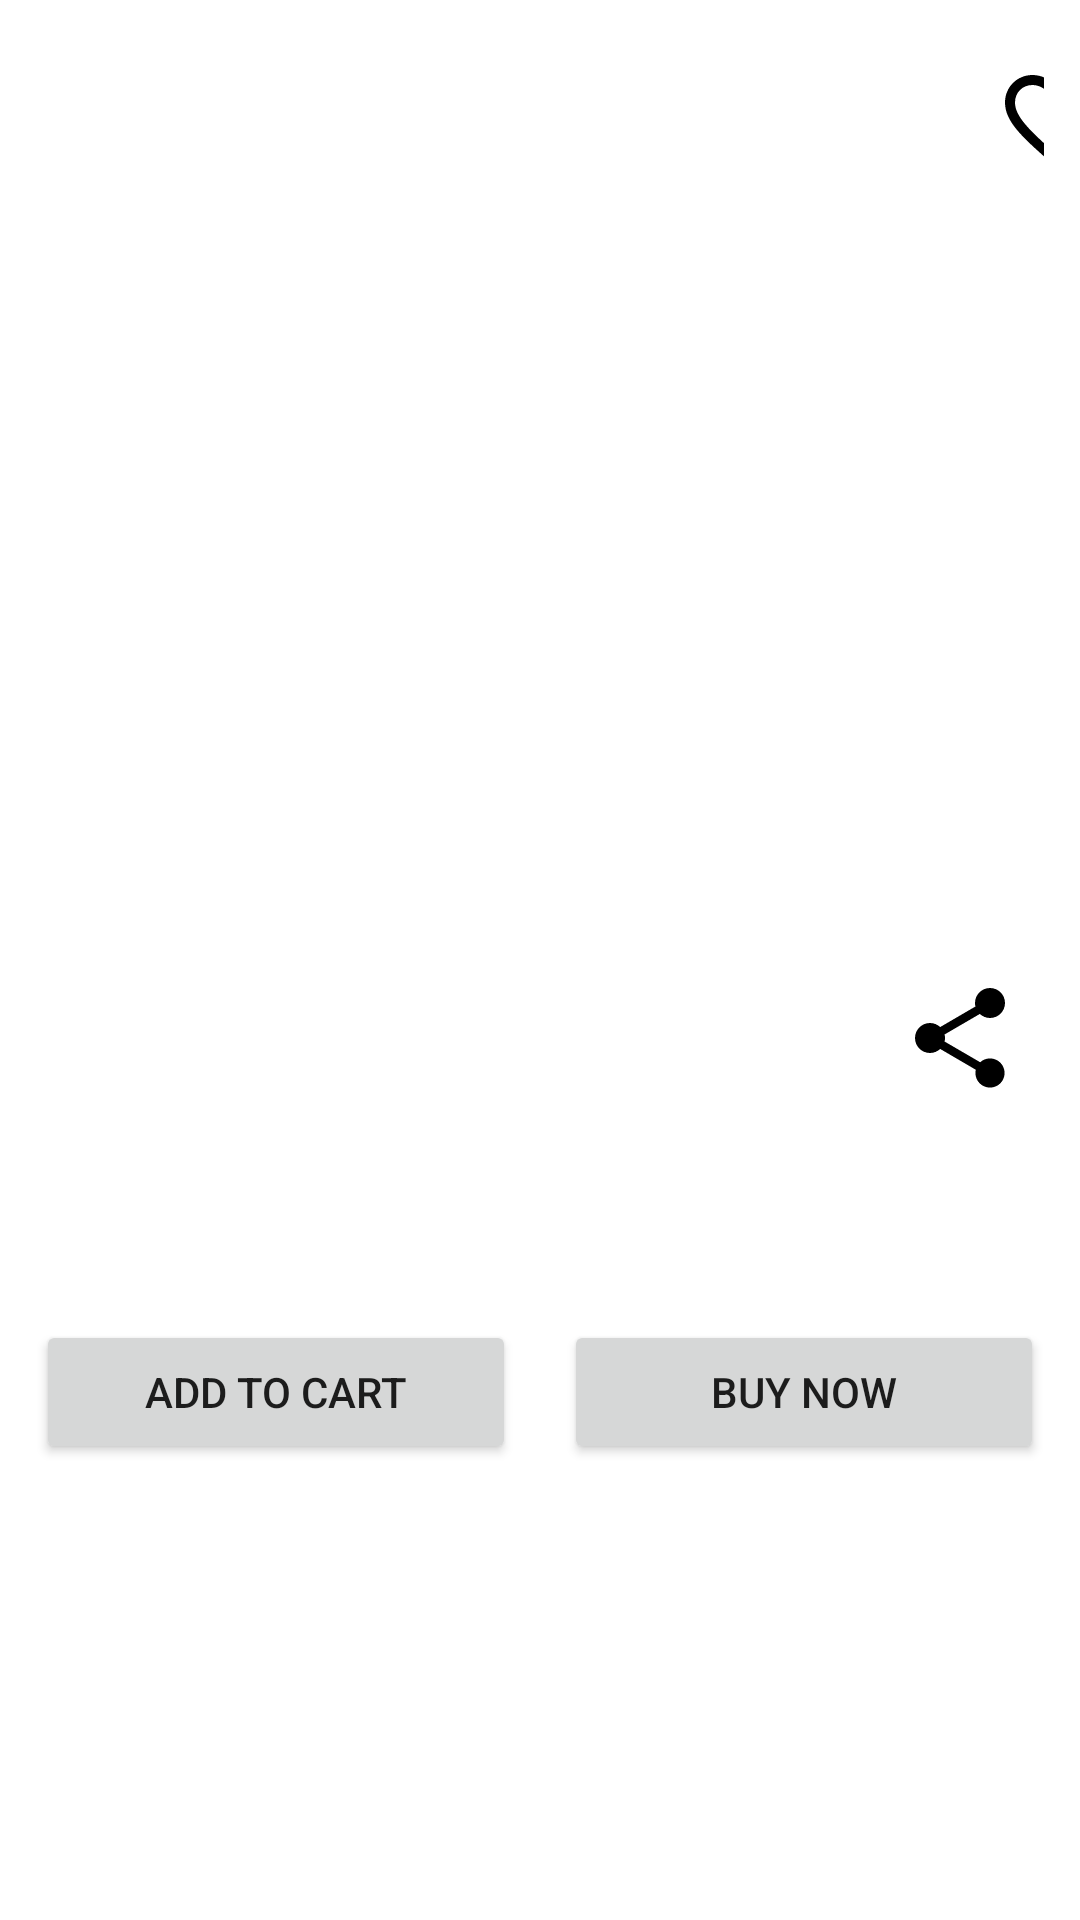

Screen size 1080x1920. Icon name, then its box in pixels as (x1, y1, x2, y2):
Share: (915, 988, 1005, 1088)
